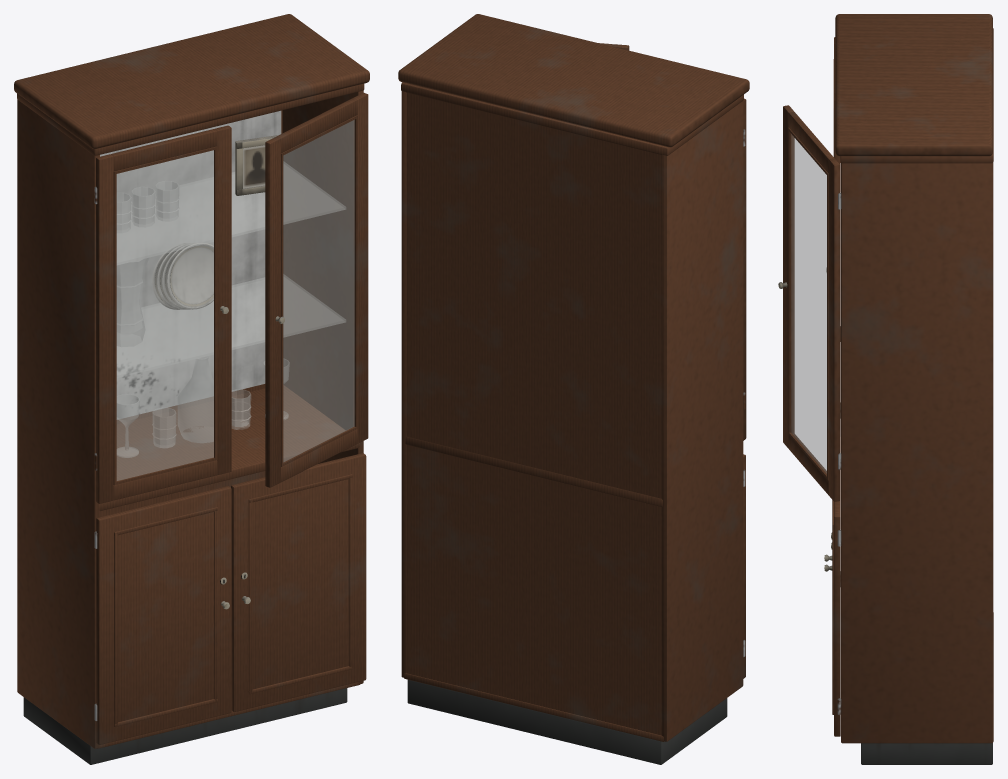
Rendered from SM_WallUnit_Glass.fbx.
3 renders of one model, left to right at view 1: azimuth 30°, elevation 25°; view 2: azimuth 150°, elevation 25°; view 3: azimuth 270°, elevation 25°, orthographic. The views are drawn at different scales.
Parts seen in each view (by area): view 1: SM_WallUnit_Glass; view 2: SM_WallUnit_Glass; view 3: SM_WallUnit_Glass.
Boxes of the visible parts, x1,y1,x2,y2 form: SM_WallUnit_Glass: (14,14,369,764); SM_WallUnit_Glass: (398,14,749,764); SM_WallUnit_Glass: (778,14,993,764).
Size of the model in its own units: 0.93 by 2.04 by 0.6363.
Materials: 2 (1 with a texture image).
